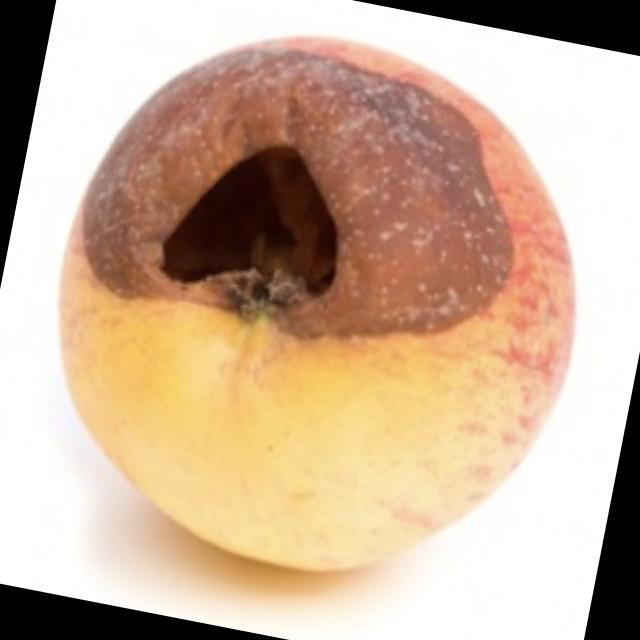rotten_apple: (9, 0, 631, 621)
